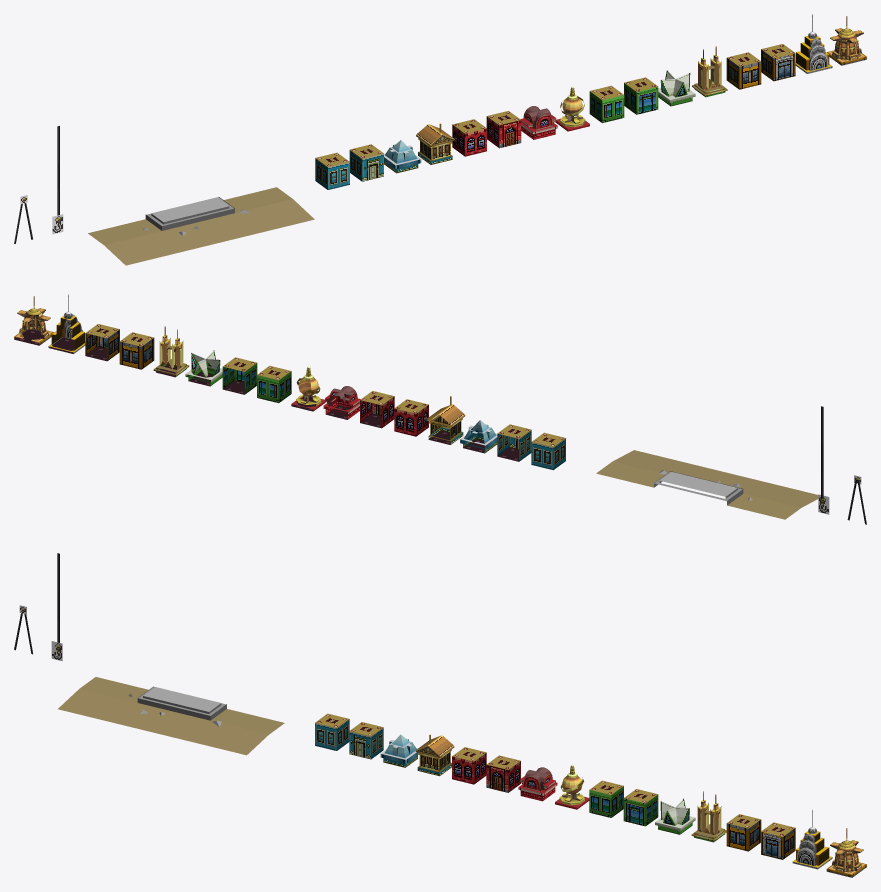
3 renders of one model, top to bottom at view 1: azimuth 30°, elevation 25°; view 2: azimuth 150°, elevation 25°; view 3: azimuth 330°, elevation 25°, orthographic.
Parts seen in each view (by area): view 1: n269, n256, n264, n265, n266, n267, n252, n268, n263, n262, n255, n259 (+5 smaller); view 2: n269, n256, n265, n267, n264, n268, n252, n262, n266, n263, n255, n259 (+6 smaller); view 3: n269, n256, n267, n265, n268, n262, n264, n252, n263, n266, n255, n259 (+5 smaller).
Boxes of the visible parts, x1=… form: n269: x1=88, y1=187, x2=314, y2=265; n256: x1=416, y1=123, x2=454, y2=164; n264: x1=589, y1=85, x2=624, y2=123; n265: x1=726, y1=52, x2=761, y2=89; n266: x1=486, y1=111, x2=521, y2=148; n267: x1=624, y1=77, x2=658, y2=114; n252: x1=315, y1=152, x2=349, y2=189; n268: x1=761, y1=44, x2=795, y2=81; n263: x1=452, y1=119, x2=486, y2=156; n262: x1=349, y1=144, x2=383, y2=181; n255: x1=795, y1=14, x2=832, y2=73; n259: x1=827, y1=16, x2=866, y2=65; n269: x1=596, y1=450, x2=818, y2=519; n256: x1=426, y1=396, x2=465, y2=444; n265: x1=119, y1=332, x2=154, y2=369; n267: x1=222, y1=357, x2=257, y2=394; n264: x1=257, y1=365, x2=291, y2=403; n268: x1=85, y1=324, x2=119, y2=361; n252: x1=531, y1=432, x2=565, y2=470; n262: x1=497, y1=424, x2=531, y2=461; n266: x1=360, y1=391, x2=394, y2=428; n263: x1=394, y1=399, x2=428, y2=436; n255: x1=48, y1=294, x2=85, y2=353; n259: x1=14, y1=296, x2=54, y2=345; n269: x1=58, y1=677, x2=284, y2=755; n256: x1=415, y1=734, x2=454, y2=776; n267: x1=623, y1=789, x2=658, y2=826; n265: x1=726, y1=814, x2=761, y2=851; n268: x1=761, y1=822, x2=795, y2=859; n262: x1=349, y1=722, x2=383, y2=759; n264: x1=589, y1=780, x2=623, y2=817; n252: x1=315, y1=713, x2=349, y2=750; n263: x1=452, y1=747, x2=486, y2=784; n266: x1=486, y1=755, x2=520, y2=792; n255: x1=792, y1=809, x2=832, y2=869; n259: x1=826, y1=828, x2=866, y2=877.
Size of the model in its own units: 9889 by 1375 by 861.
44 materials, 39 textured.
